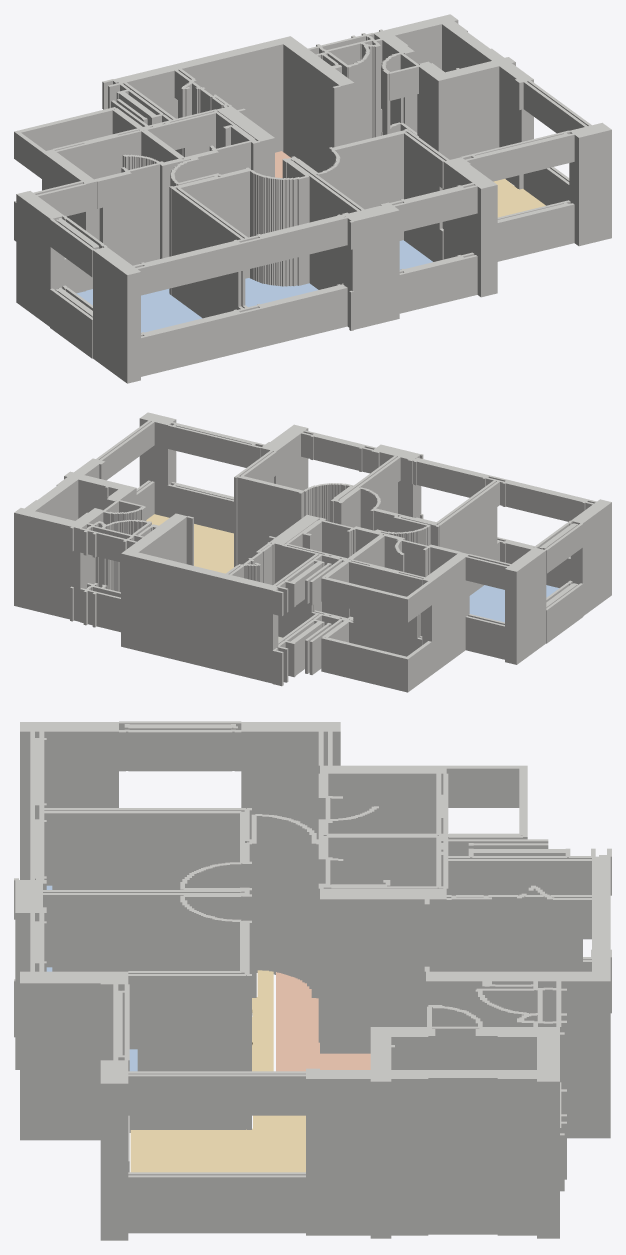
The picture shows the model from 3 angles, top to bottom: view 1: azimuth 30°, elevation 25°; view 2: azimuth 150°, elevation 25°; view 3: azimuth 270°, elevation 25°; orthographic projection. The views are drawn at different scales.
Visible parts, largest first — view 1: walls, room:bedroom:3, room:bedroom:7, room:living:8, room:bedroom:9; view 2: walls, room:living:8, room:bedroom:3; view 3: walls, room:living:8, room:kitchen:4.
Part boxes in pixels (x1,y1,x2,y2): walls: (14,14,611,383); room:bedroom:3: (76,289,202,332); room:bedroom:7: (245,278,318,307); room:living:8: (493,179,545,217); room:bedroom:9: (399,240,432,269); walls: (14,412,611,692); room:living:8: (146,514,233,573); room:bedroom:3: (469,585,559,622); walls: (14,721,611,1240); room:living:8: (130,970,305,1172); room:kitchen:4: (276,972,370,1071).
Bounding box in the file's own units: 13.87 × 2.8 × 9.67.
